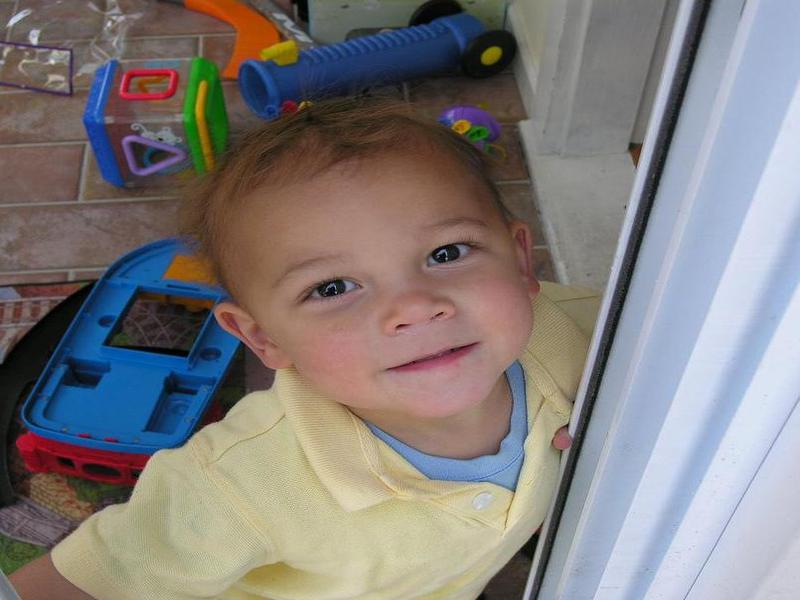person: (33, 109, 597, 600)
